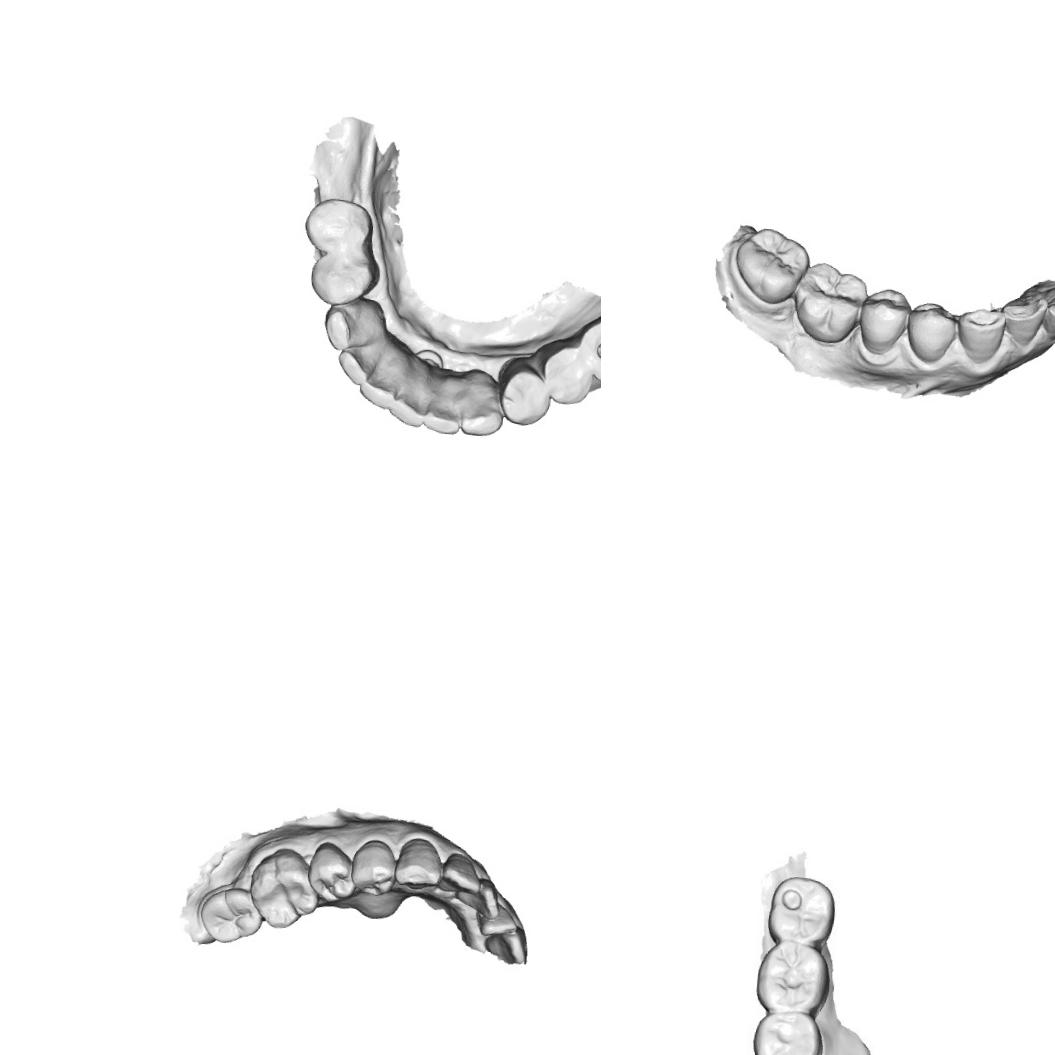canine: (952, 304, 1008, 366), (320, 297, 378, 356), (390, 834, 446, 892), (457, 388, 506, 439)
incisor: (998, 292, 1047, 348), (355, 361, 406, 412), (329, 340, 378, 389), (421, 390, 467, 438), (436, 850, 484, 895), (388, 382, 432, 430), (481, 923, 528, 963), (472, 876, 503, 922), (477, 905, 518, 939), (1040, 293, 1055, 344)
molar: (788, 258, 869, 346), (730, 224, 812, 308), (245, 844, 322, 932), (753, 935, 830, 1019), (759, 870, 838, 949), (196, 883, 266, 945), (576, 307, 601, 390)
premolar: (300, 195, 374, 258), (307, 246, 379, 308), (855, 284, 912, 357), (536, 340, 596, 407), (902, 298, 958, 365), (304, 839, 358, 905), (496, 366, 552, 424), (347, 836, 399, 898), (752, 1008, 820, 1055)
